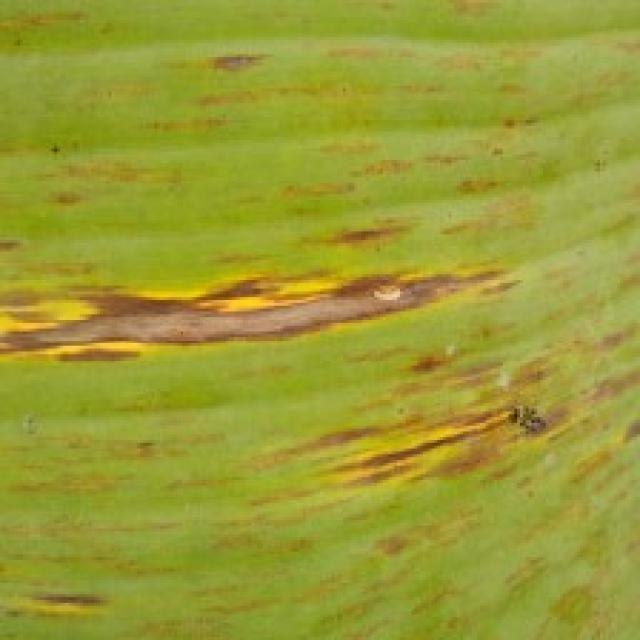Early_leaf_spot: (0, 0, 640, 640), (0, 212, 517, 364), (264, 343, 639, 519), (293, 37, 622, 223), (0, 552, 152, 631), (181, 32, 276, 82), (0, 0, 103, 43), (419, 0, 512, 37)
